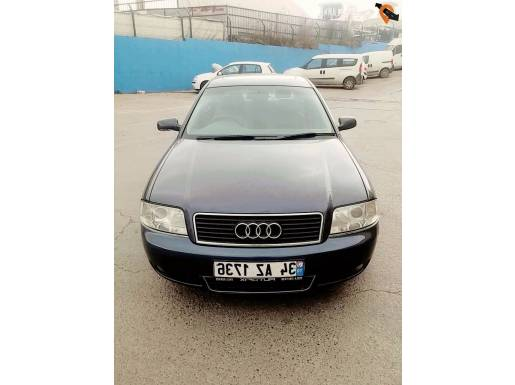audi: (226, 218, 286, 240)
